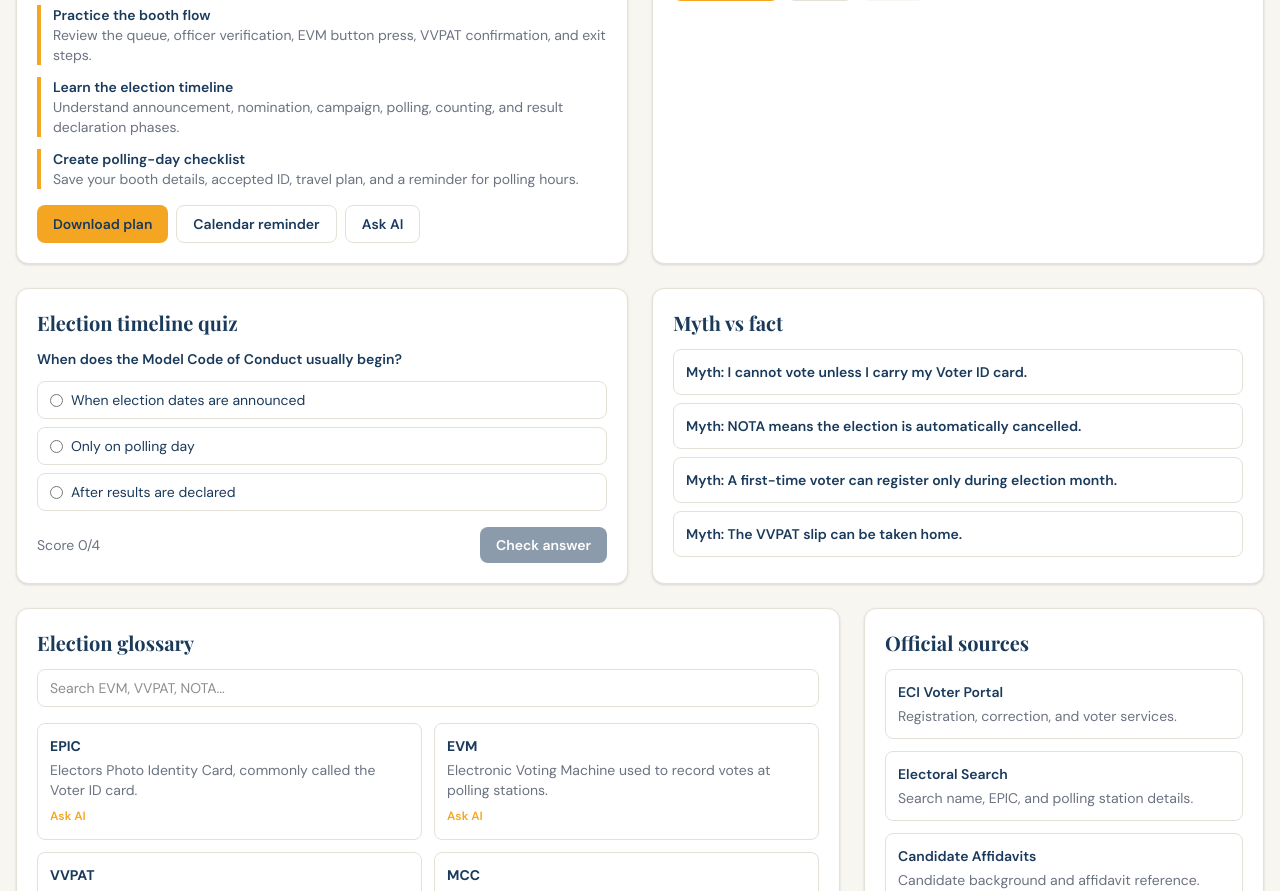
ElectionLearningLab › shows quiz feedback for incorrect answers
(page scrolled)
Click the radio button labelled "Only on polling day" at (56, 446), box [50, 440, 63, 452]
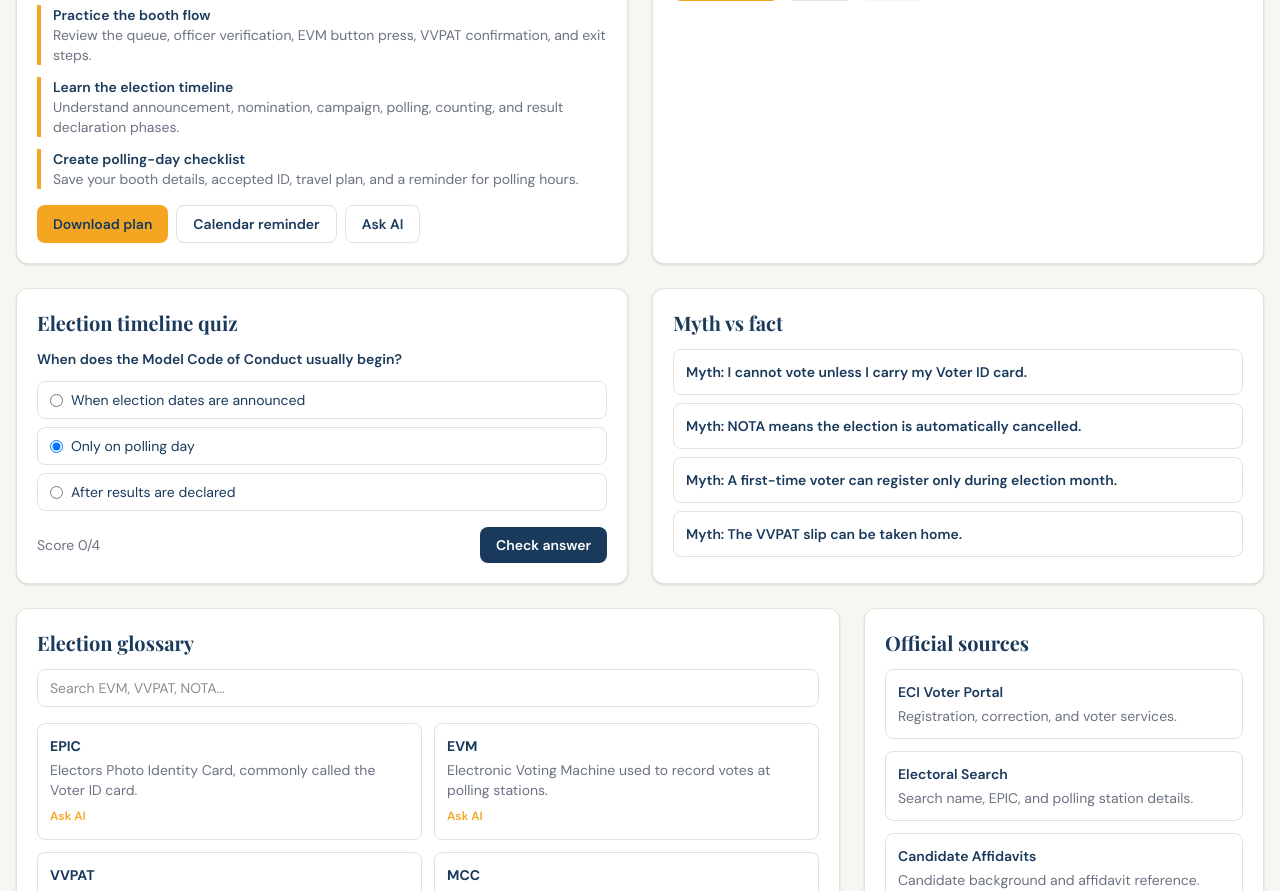
Click the button "Check answer" at (544, 545), box [480, 527, 607, 563]
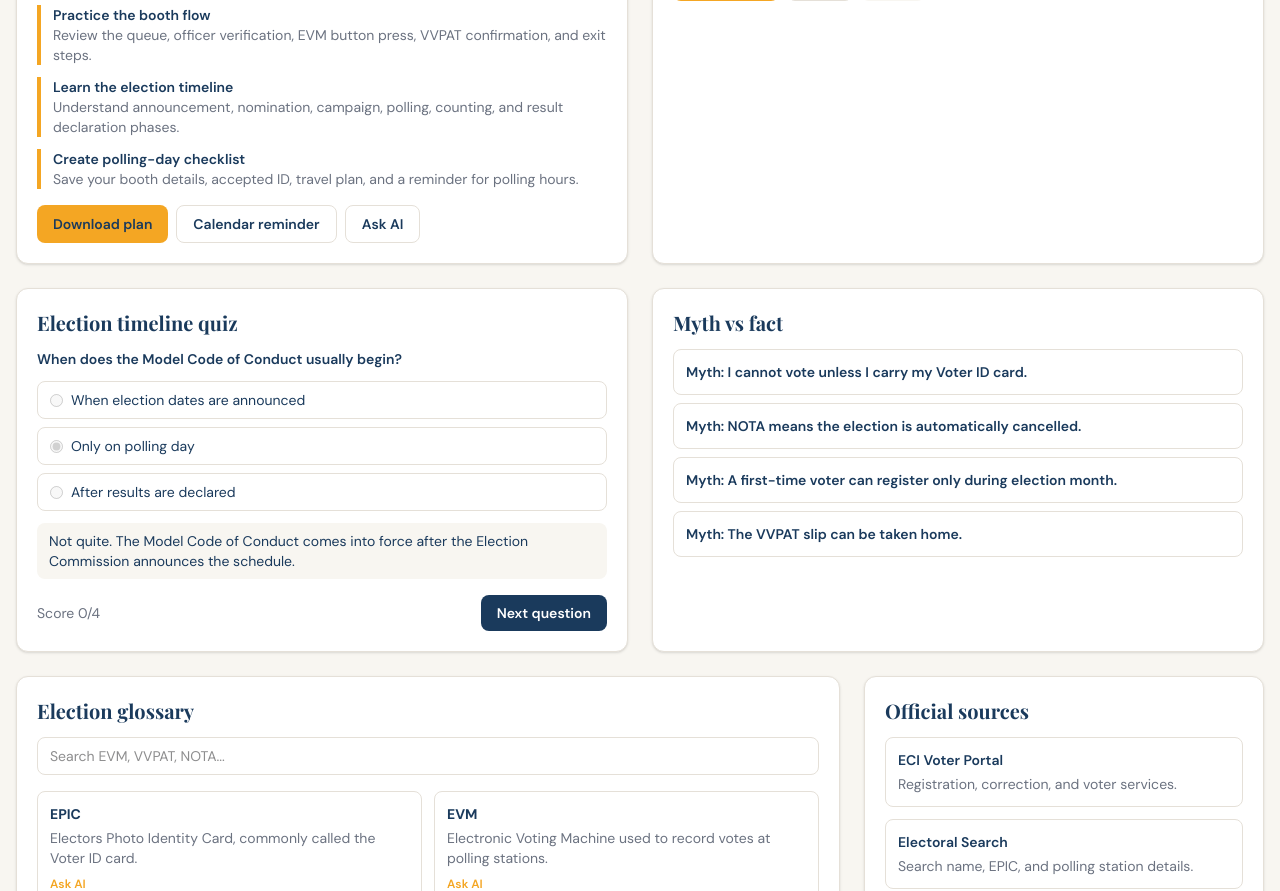
Result: the text "Not quite" is shown at [49, 532, 116, 550]
